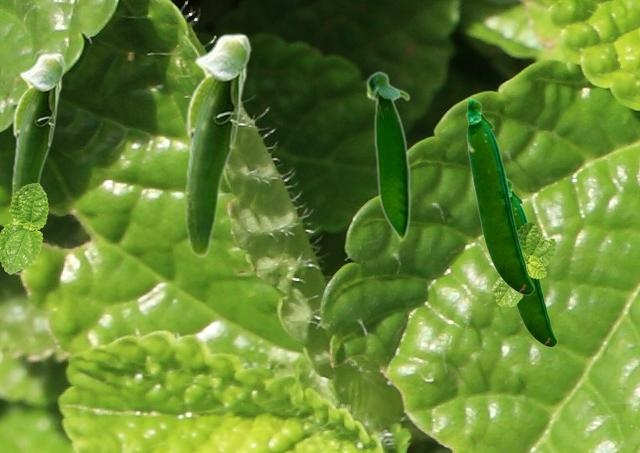pea: (184, 33, 251, 257), (465, 97, 533, 294), (11, 52, 65, 221), (508, 178, 556, 346), (365, 70, 410, 244)
